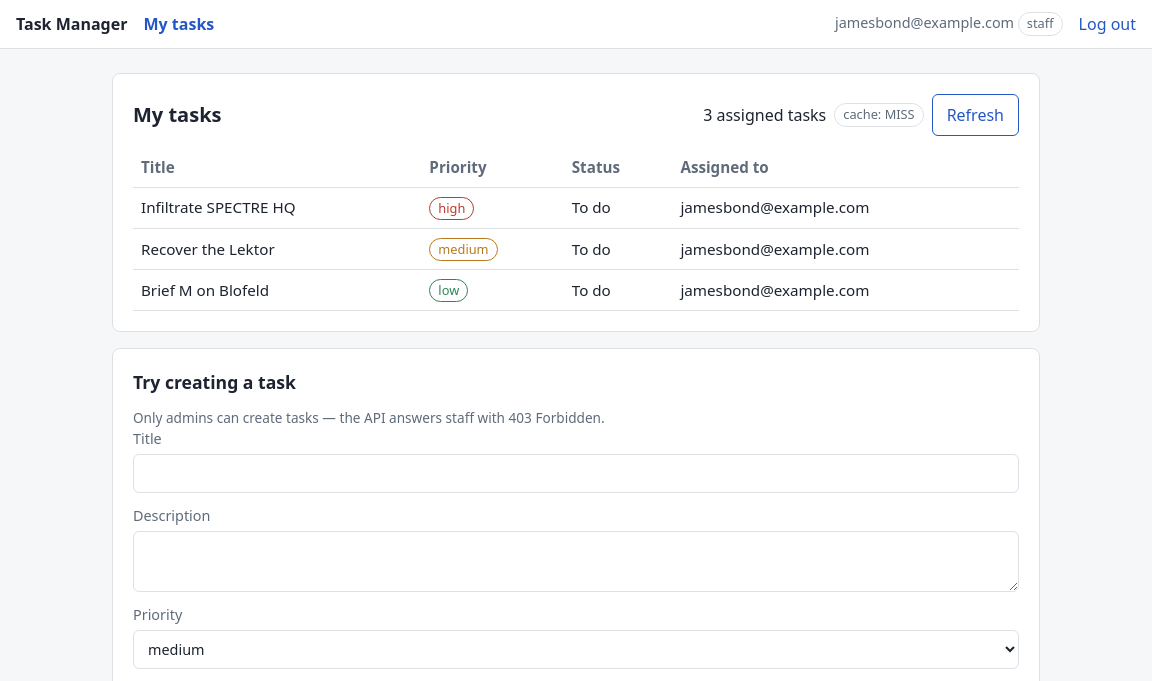
App routing › log out button clears the session
The image size is (1152, 681).
Click the button "Log out": coordinates (1107, 24) [1079,12,1136,36]
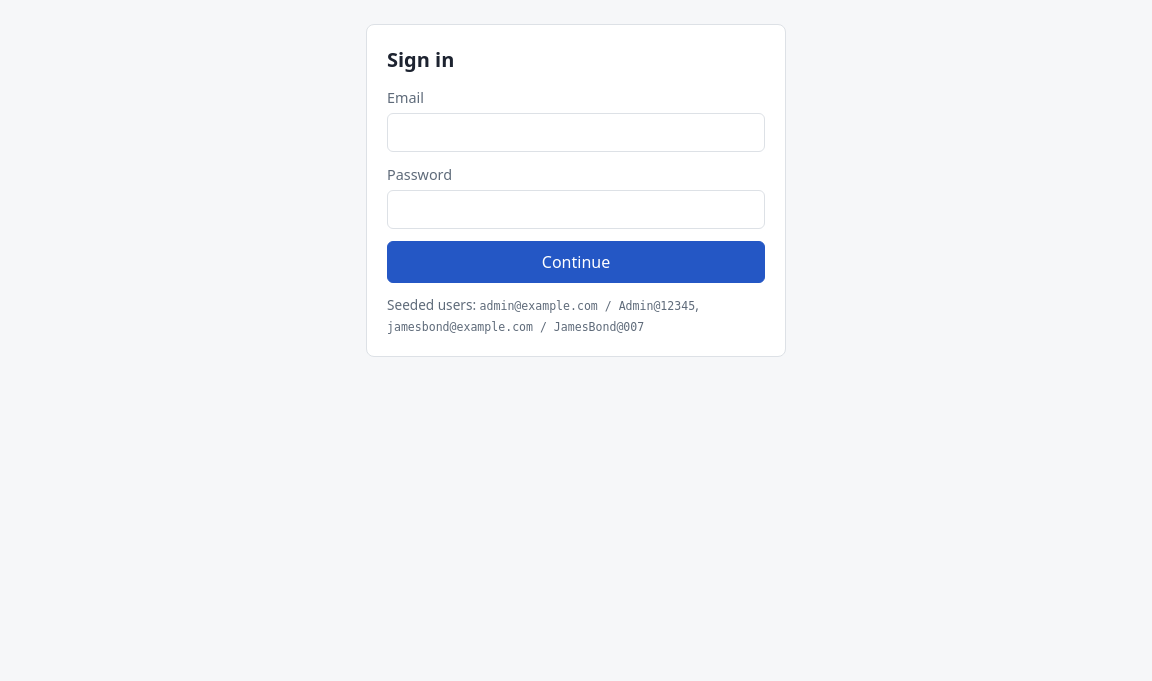
Expected: the heading "Sign in" is shown, [387,46,454,73]
